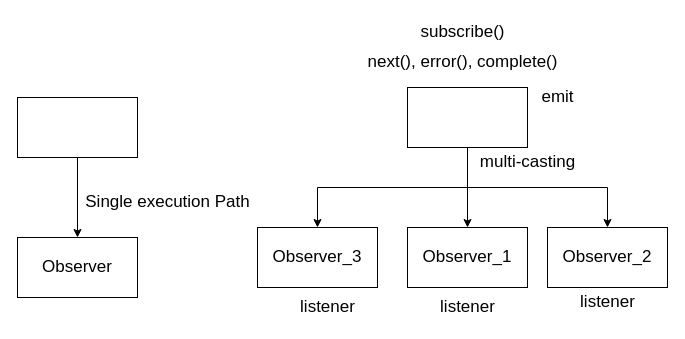
Image size: 685x339. Some labels were removed from this diagram. The centre of each missing label's shape, as x and y in pixels:
Observable: the point at 77,127
Subjects: the point at 467,117
